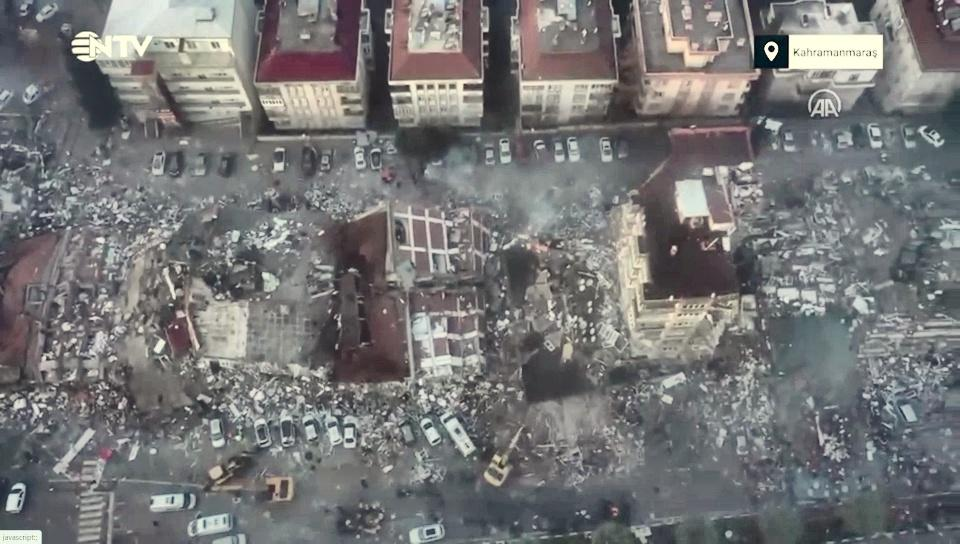kapali: (685, 351, 959, 520)
